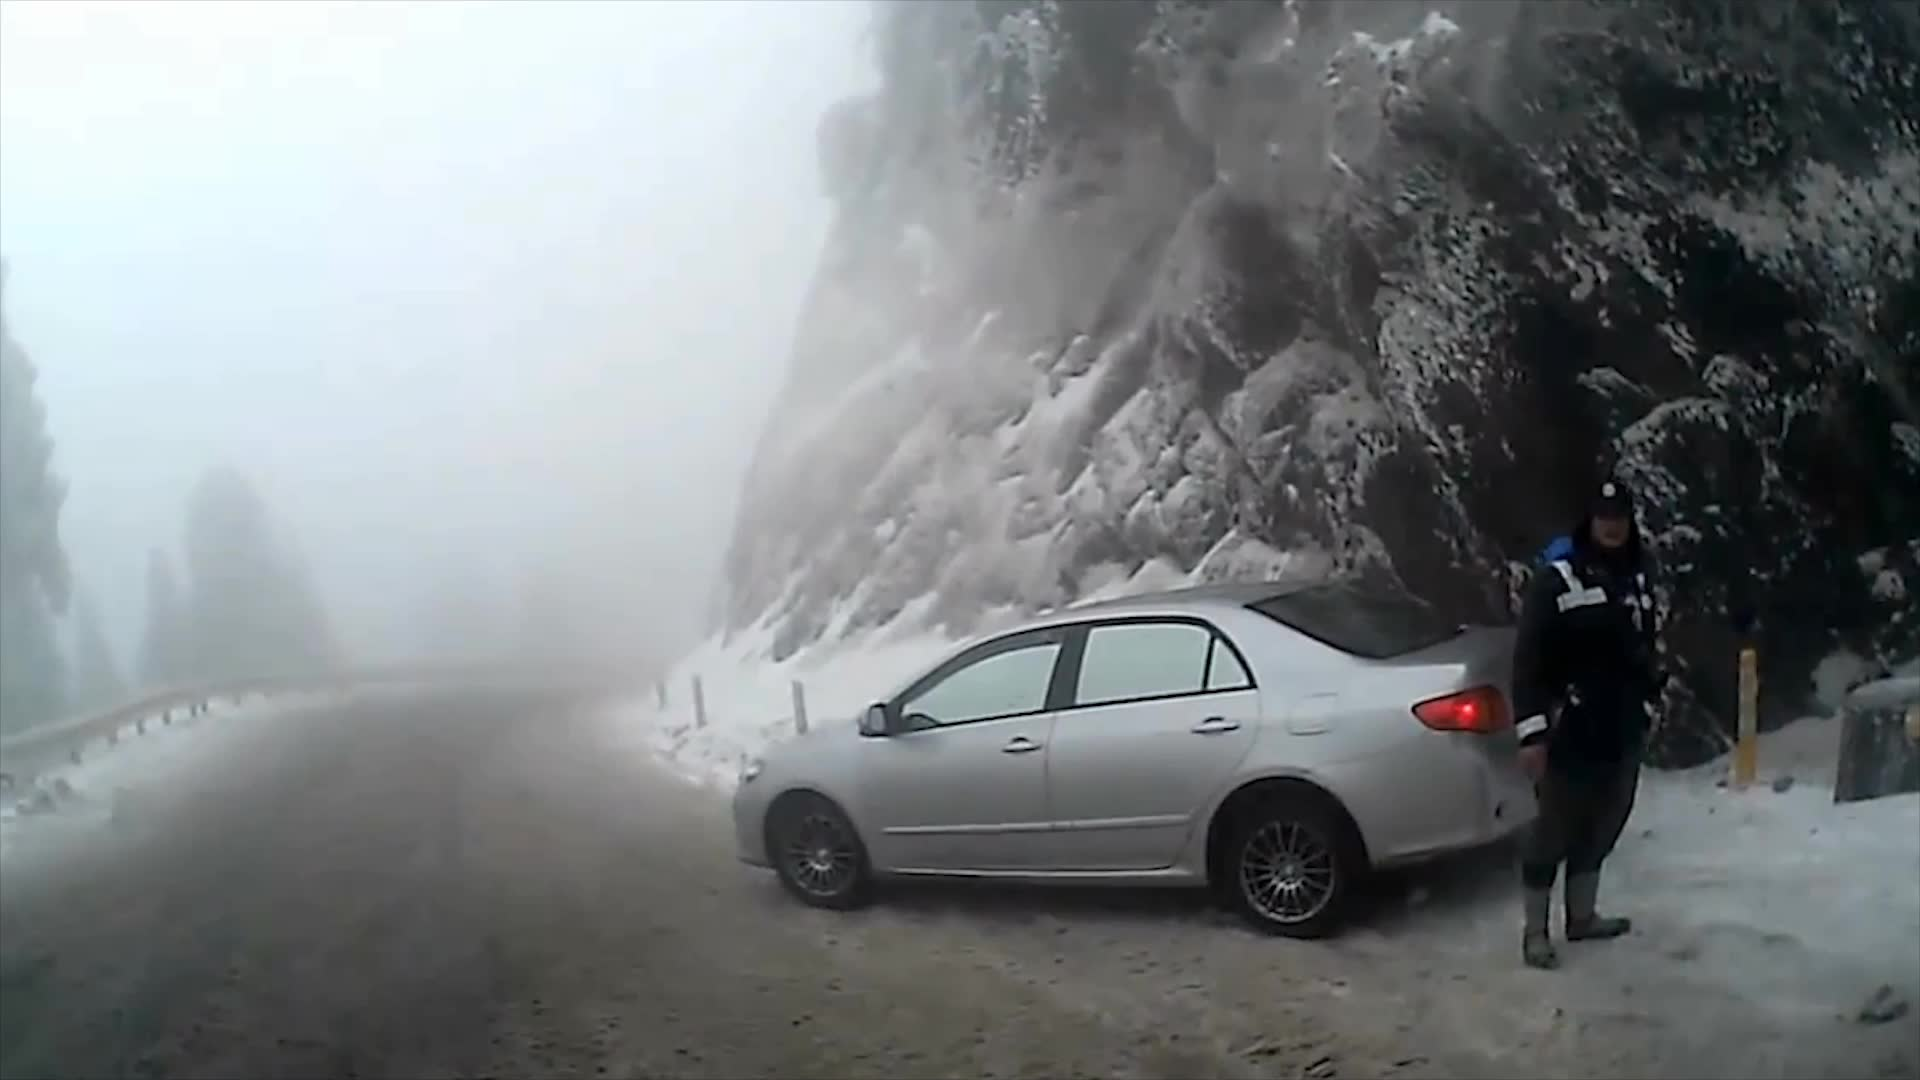pedestrian: (1512, 479, 1675, 970)
vehicle: (729, 576, 1608, 935)
